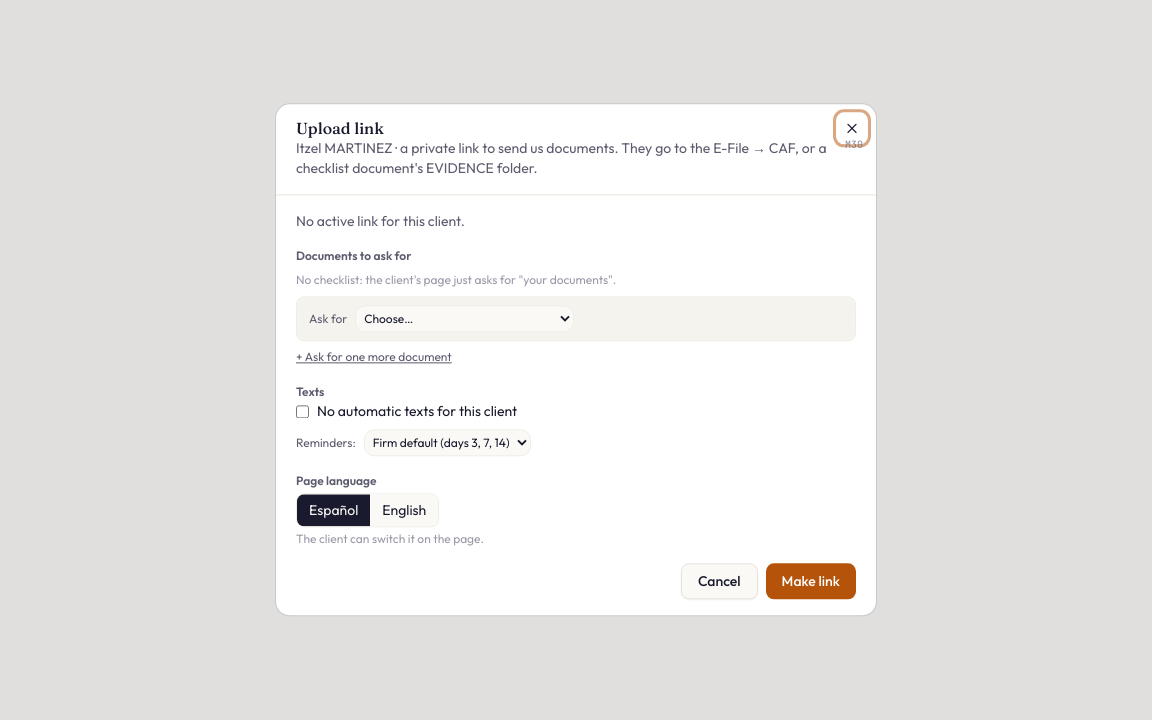
UploadLinkModal › makes a Spanish link for a Spanish-speaking client and shows it once
Click the button "Make link" at [811, 582], box top-left (766, 564), bottom-right (856, 600)
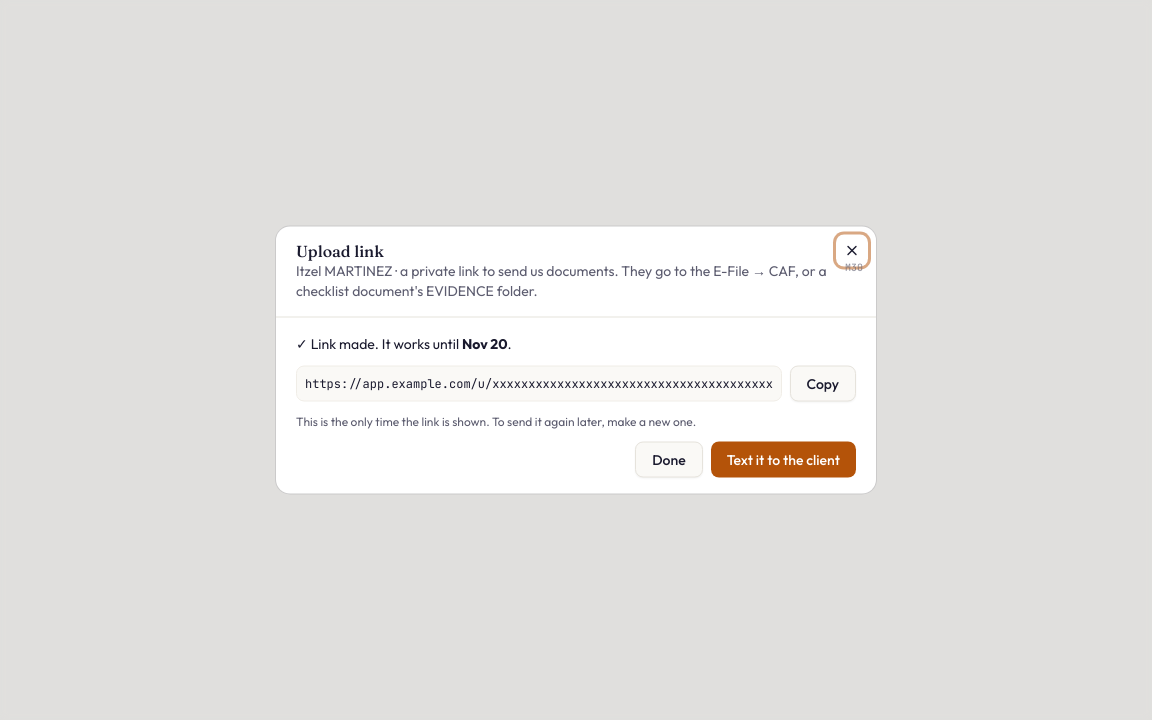
expect the text "This is the only time the link is shown" is shown: met, box top-left (296, 414), bottom-right (696, 428)
